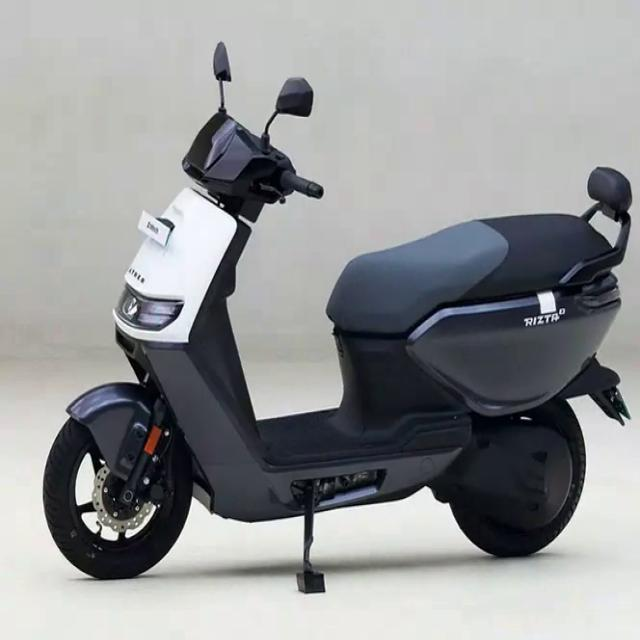objects: (35, 44, 638, 605)
